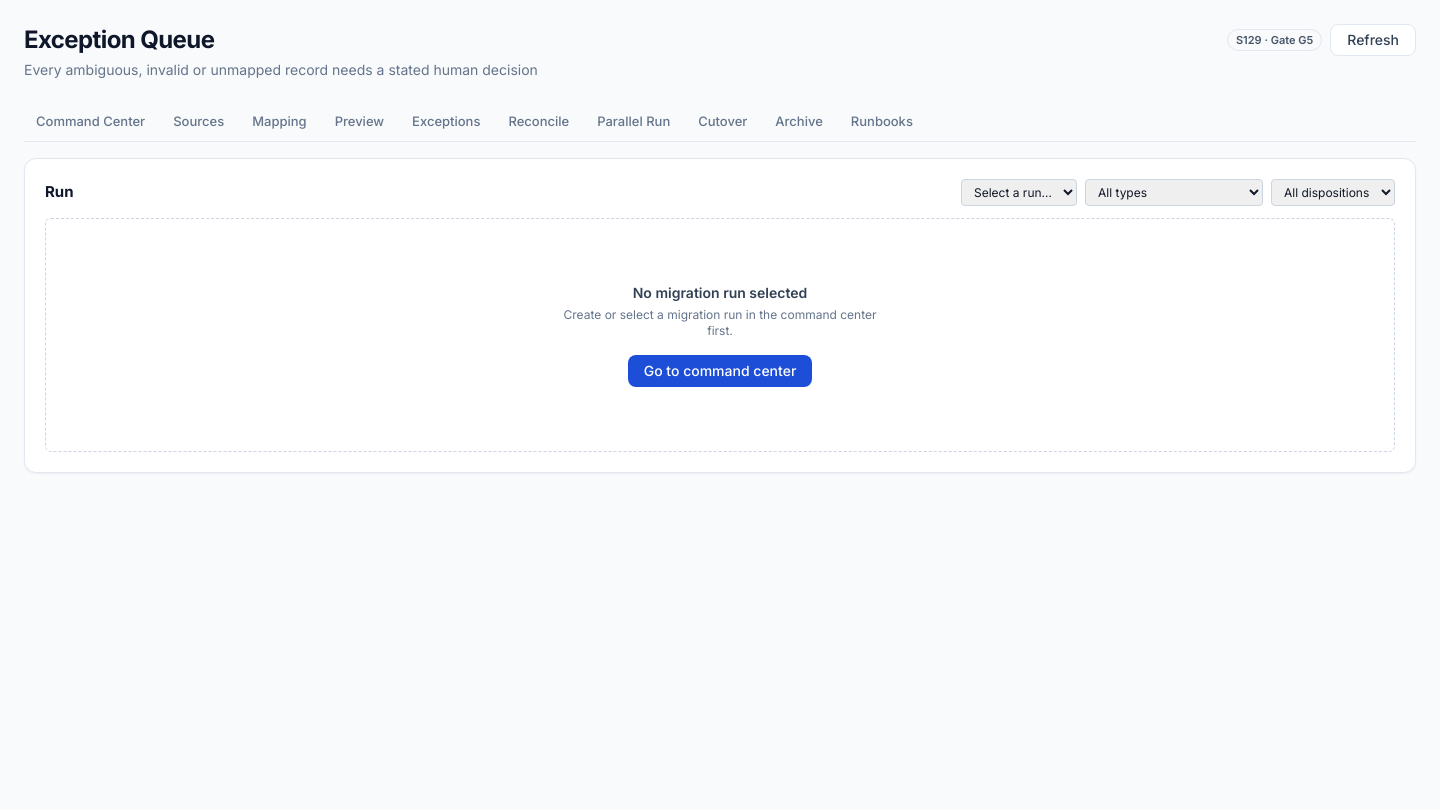
MigrationExceptions › confirms G5 is satisfiable when the queue is clear
Select "run-a" in the dropdown with test id "exceptions-run-select" at (1019, 192), box [961,178,1077,206]
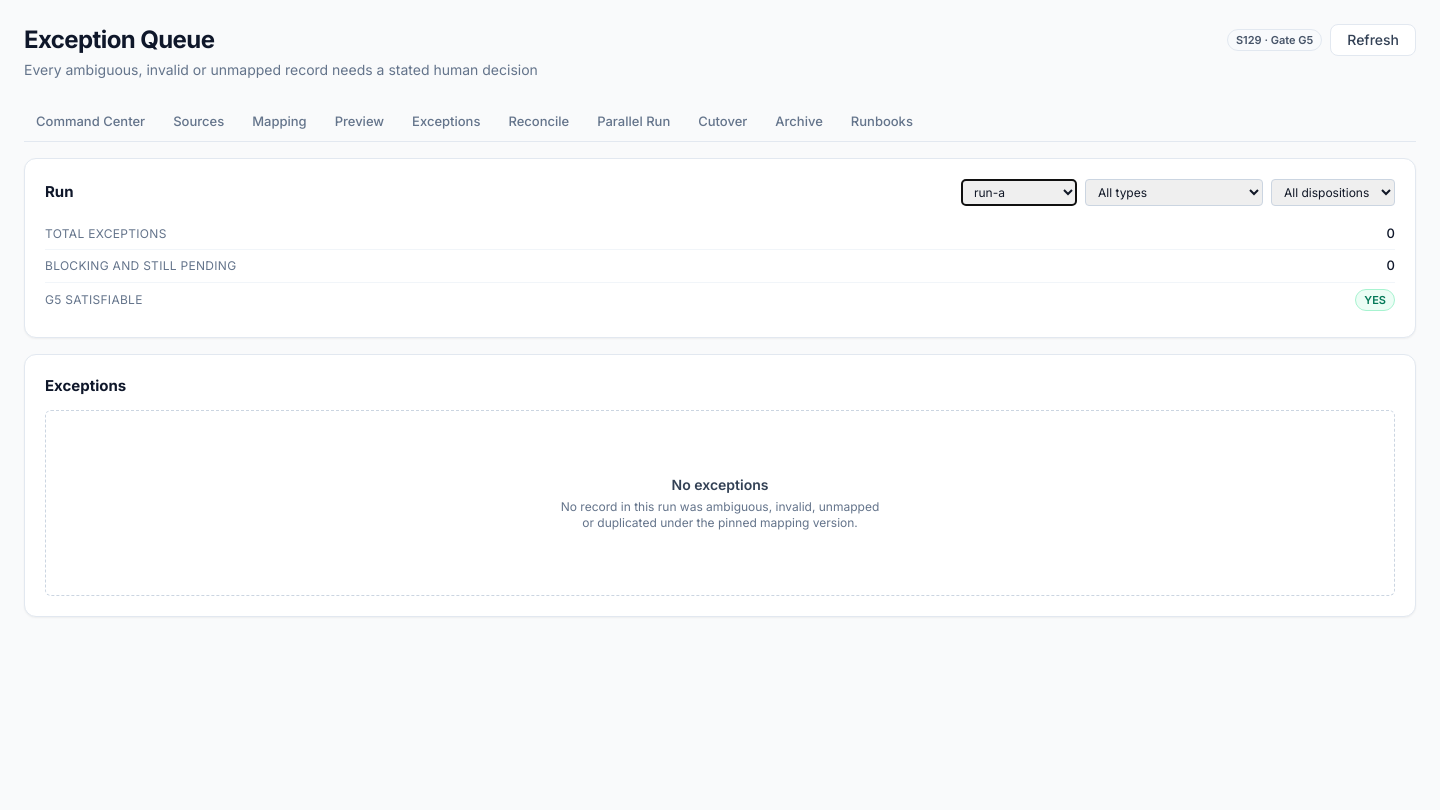
Now the element with test id "exceptions-g5" reads "YES", box [1364,292,1386,306]
Now the element with test id "exceptions-empty" is shown, box [45,410,1395,596]
